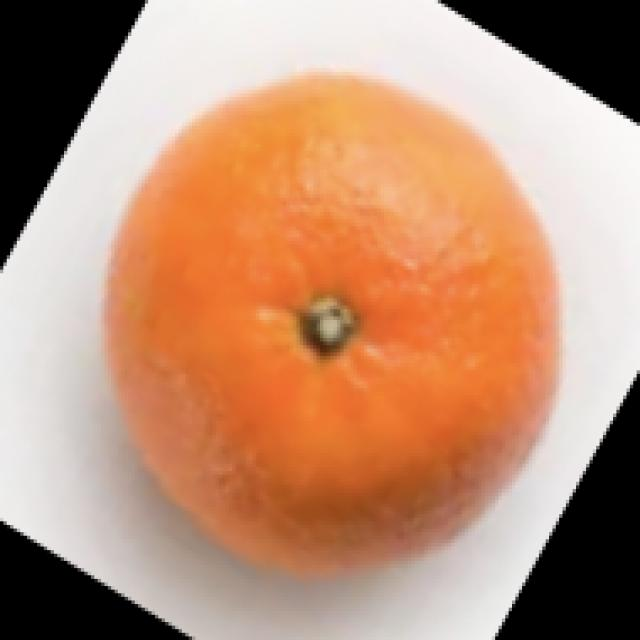fresh: (88, 63, 583, 577)
